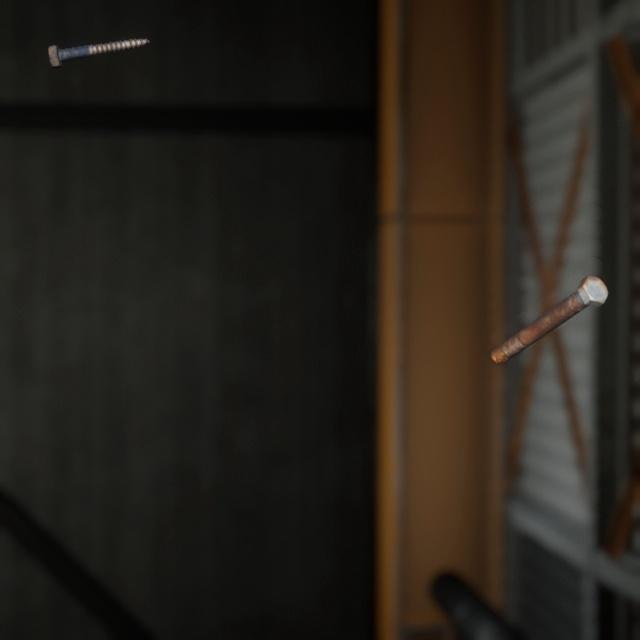bolt: (485, 252, 612, 351), (43, 24, 154, 63)
